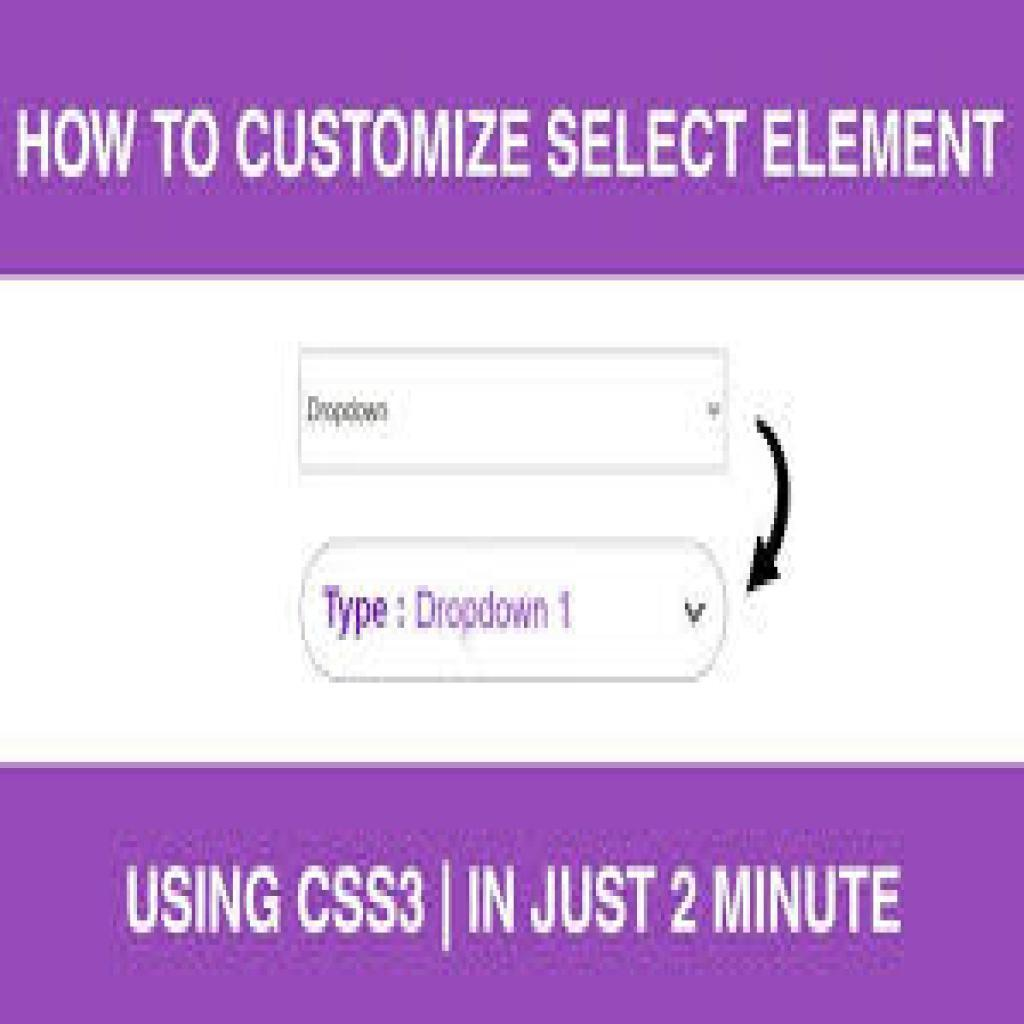dropdown: (301, 536, 728, 681), (301, 350, 731, 473)
